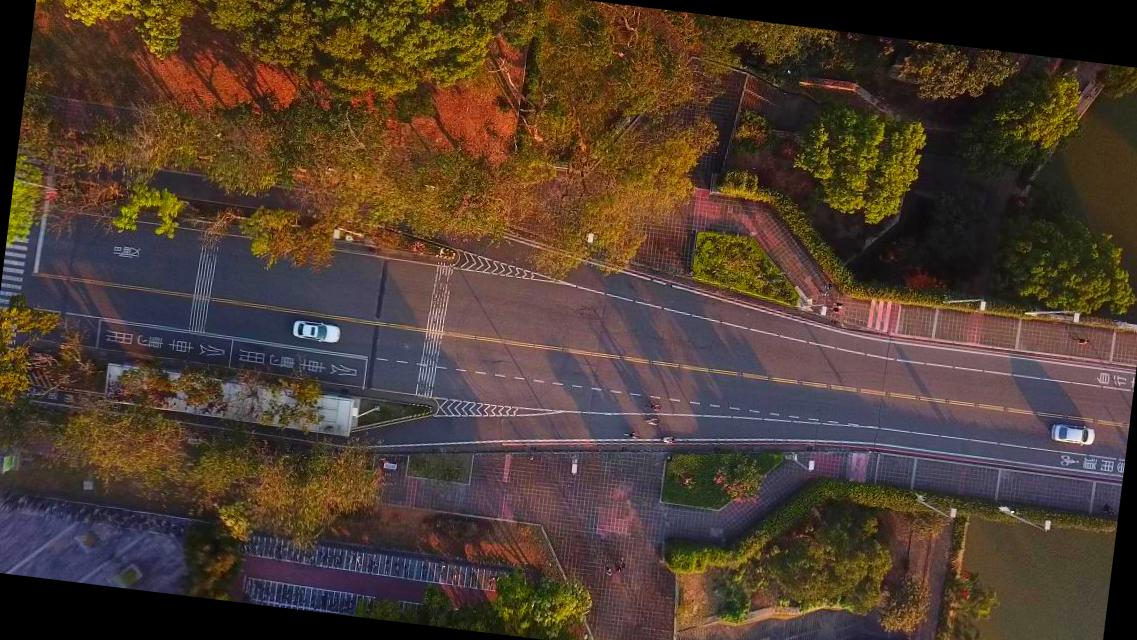vehicle: (290, 317, 341, 344), (1049, 421, 1095, 446)
